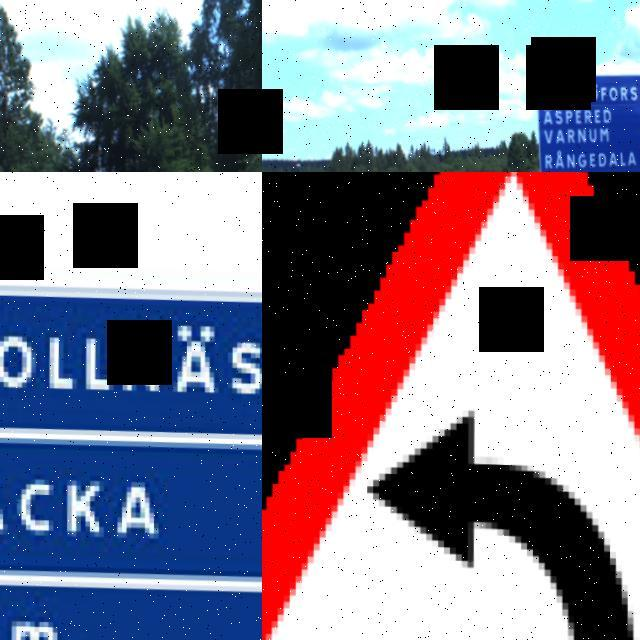121: (0, 172, 262, 640)
3: (533, 62, 640, 172)
Left curve: (262, 172, 640, 640)
